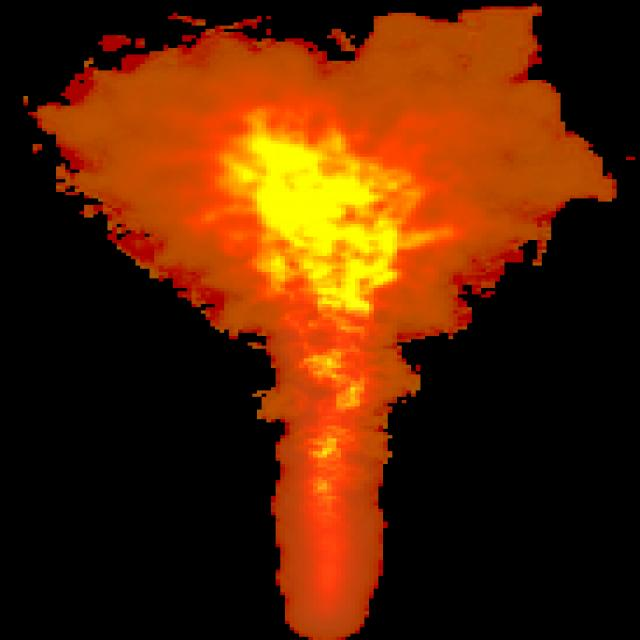fire: (75, 0, 564, 630)
